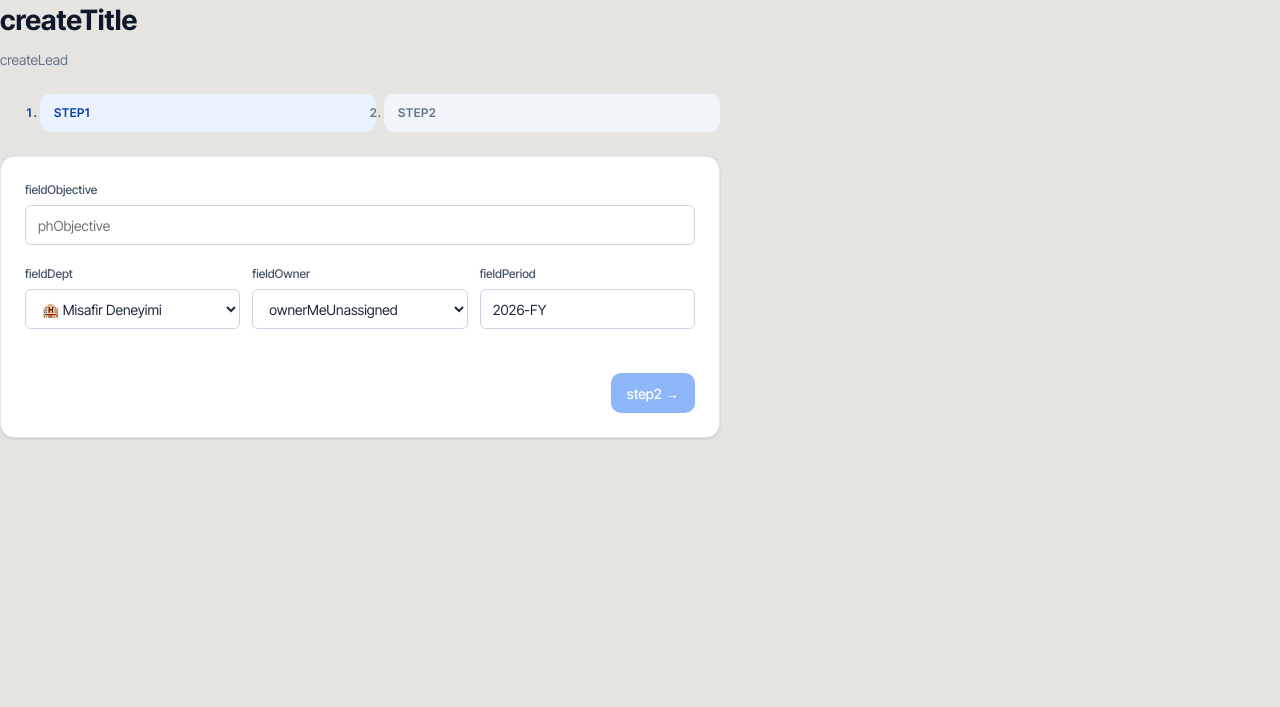
Test: footer names the weights when they are the only thing missing
Type "Misafir yorumlarını artır" into the field with placeholder "phObjective" at point(360, 225), box 25,205 -> 695,245
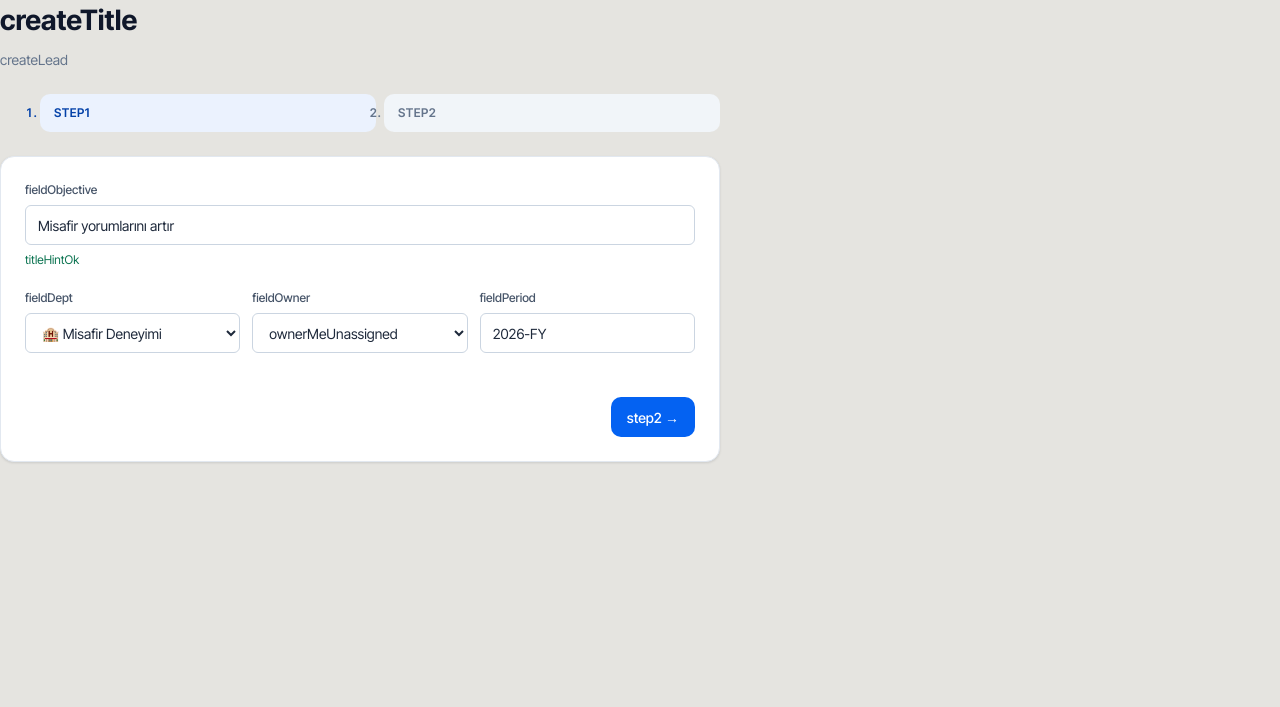
Click the button "step2 →" at point(653, 417), box 611,397 -> 695,437
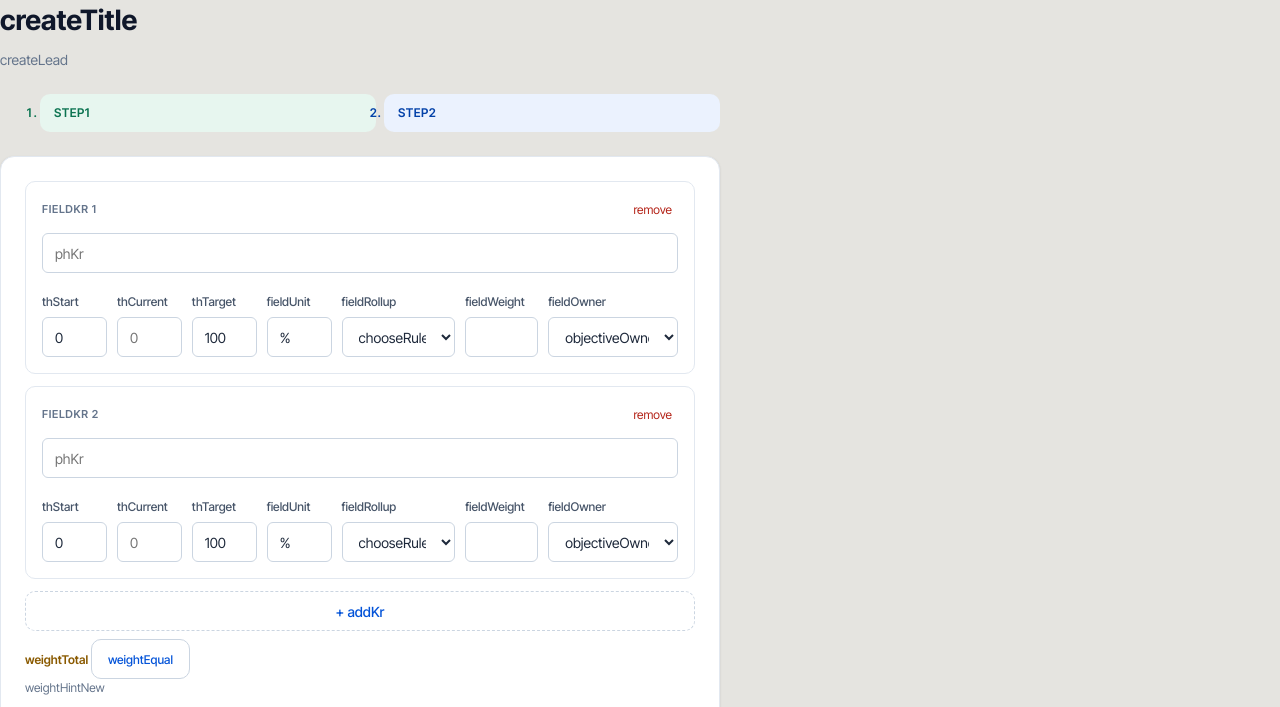
Type "750 yeni 5 yıldızlı yorum" into the field named "fieldKr 1" at point(360, 253), box 42,233 -> 678,273
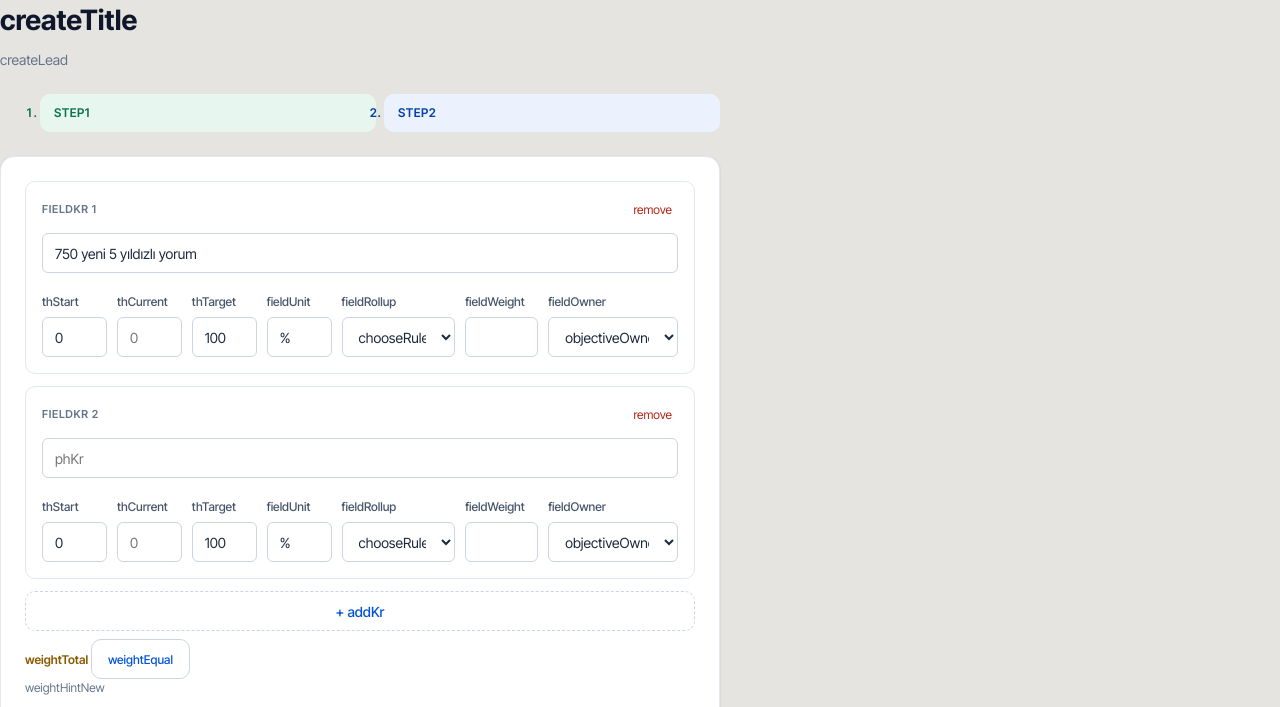
Select "rollupSum" in the dropdown named "fieldKr 1 fieldRollup" at point(398, 337), box 342,317 -> 455,357
(page scrolled)
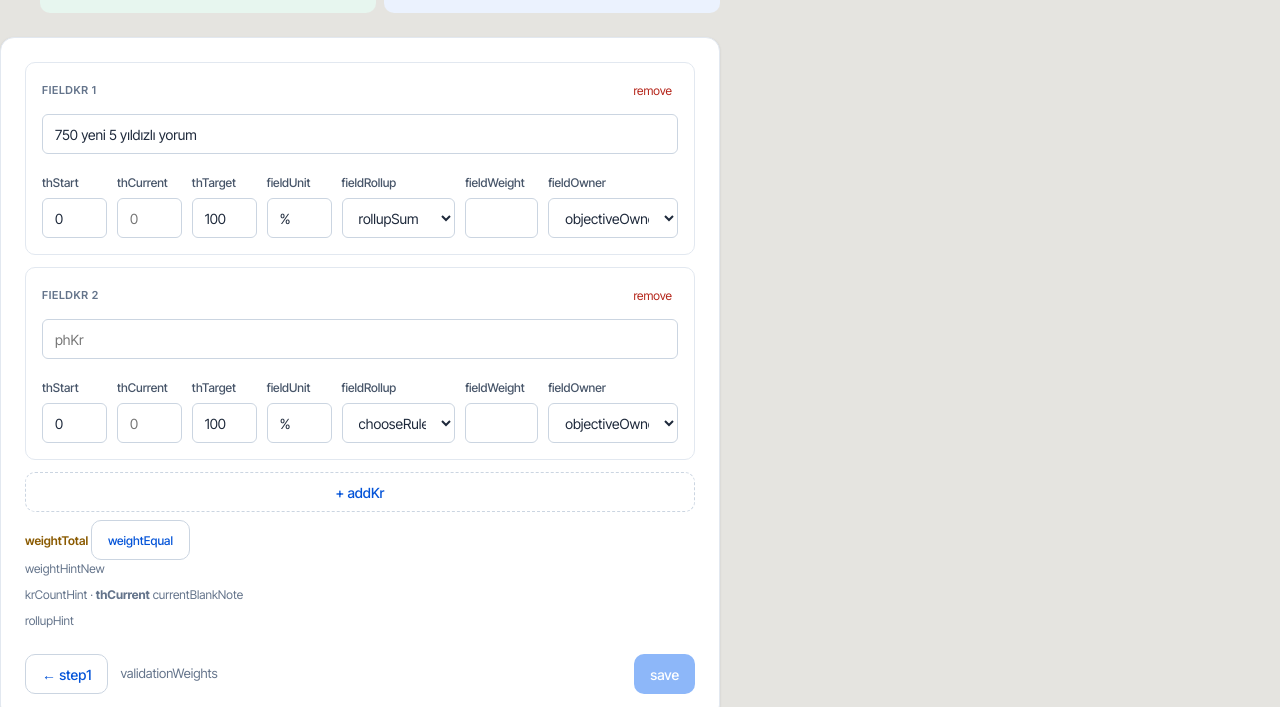
Expected: the text "validationWeights" is shown, 120,664 -> 218,684
